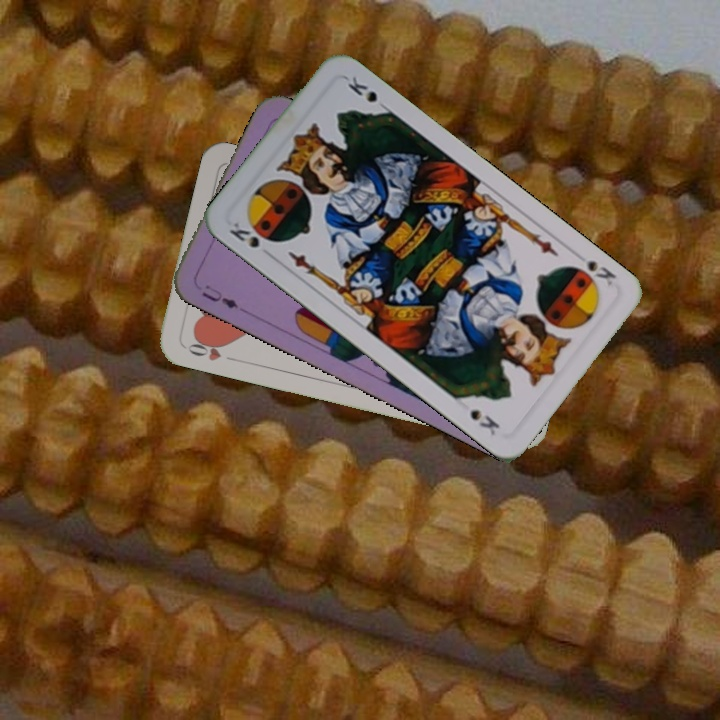EU: (197, 280, 241, 312)
HO: (181, 333, 231, 363)
SK: (225, 217, 274, 251), (582, 256, 619, 288)
